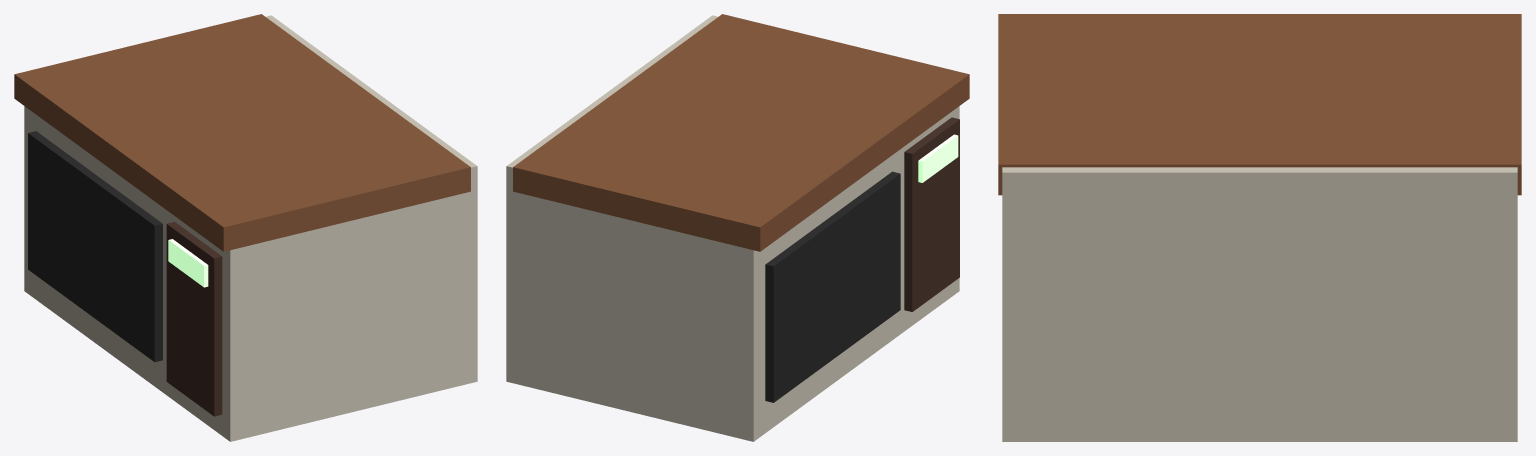
Rendered from microwave.glb.
3 views of the same model, side by side, from view 1: azimuth 30°, elevation 25°; view 2: azimuth 150°, elevation 25°; view 3: azimuth 270°, elevation 25° (orthographic). The views are drawn at different scales.
Visible parts, largest first — view 1: Box2, Box1, Box3, Box4, Box5; view 2: Box2, Box1, Box3, Box4, Box5; view 3: Box1, Box2.
Boxes of the visible parts, x1,y1,x2,y2 form: Box2: (14,14,470,251); Box1: (24,15,477,441); Box3: (28,131,162,362); Box4: (166,222,222,416); Box5: (168,239,208,287); Box2: (513,14,969,251); Box1: (506,15,959,441); Box3: (765,171,900,402); Box4: (904,117,959,311); Box5: (918,134,958,182); Box1: (1002,167,1517,441); Box2: (998,14,1521,195).
Size of the model in its own units: 0.378 by 0.303 by 0.528.
